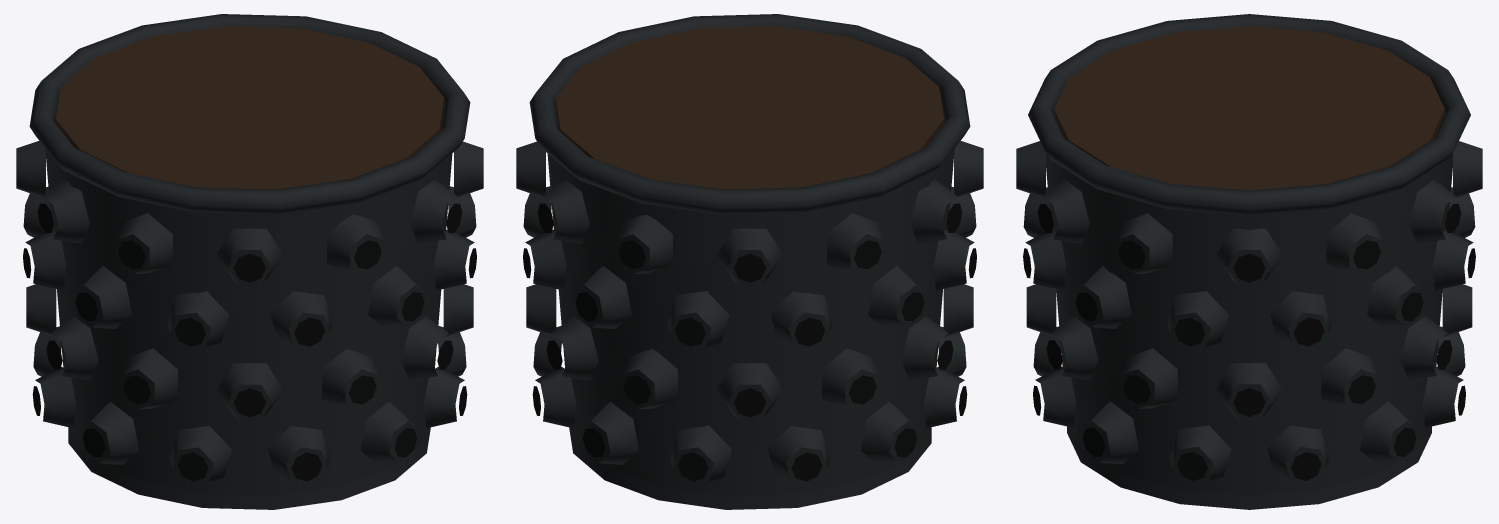
The model's file is pot-air-perforated.glb.
3 renders of one model, left to right at view 1: azimuth 30°, elevation 25°; view 2: azimuth 150°, elevation 25°; view 3: azimuth 270°, elevation 25°, orthographic.
Visible parts, largest first — view 1: airPotBody, soil, aerationCones, airPotRim, aerationHole, ventedBase; view 2: airPotBody, soil, aerationCones, airPotRim, aerationHole, ventedBase; view 3: airPotBody, soil, aerationCones, airPotRim, aerationHole, ventedBase.
Part boxes in pixels (x1,y1,x2,y2): airPotBody: (45,148,452,495); soil: (55,26,444,189); aerationCones: (16,105,483,481); airPotRim: (29,14,470,214); aerationHole: (23,203,476,481); ventedBase: (68,427,430,509); airPotBody: (547,148,954,495); soil: (555,26,944,189); aerationCones: (516,105,983,481); airPotRim: (529,14,970,214); aerationHole: (523,203,976,481); ventedBase: (569,427,931,509); airPotBody: (1046,153,1452,495); soil: (1054,26,1444,190); aerationCones: (1016,113,1482,481); airPotRim: (1028,14,1470,215); aerationHole: (1023,204,1475,480); ventedBase: (1067,426,1431,509).
Size of the model in its own units: 0.554 by 0.426 by 0.554.
